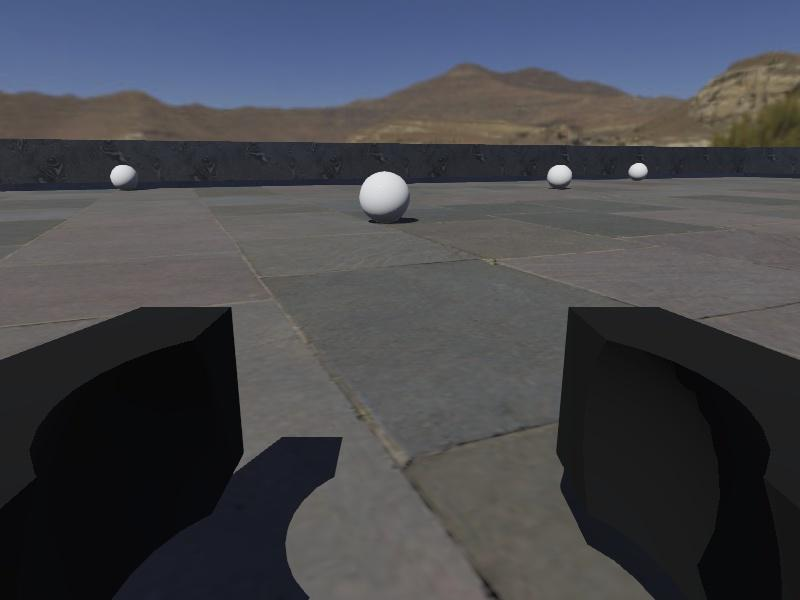white ball: (359, 170, 411, 223), (110, 162, 140, 192), (548, 164, 573, 189), (628, 162, 648, 181)
